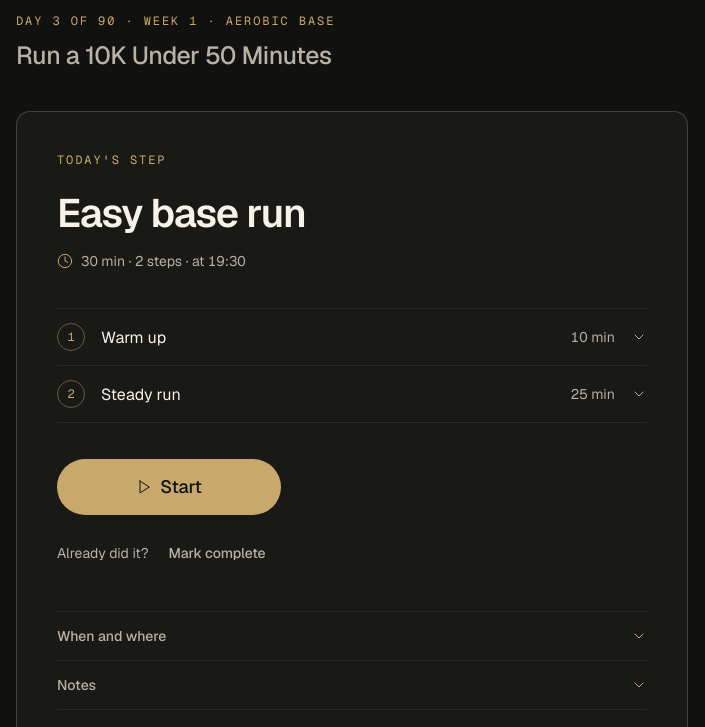
it: Today › renders raw implementation intention when not partitioned into when/where/action
This screenshot has width=705, height=727.
Step 1. Click the button "When and where" → (112, 636), box [57,612,647,660]
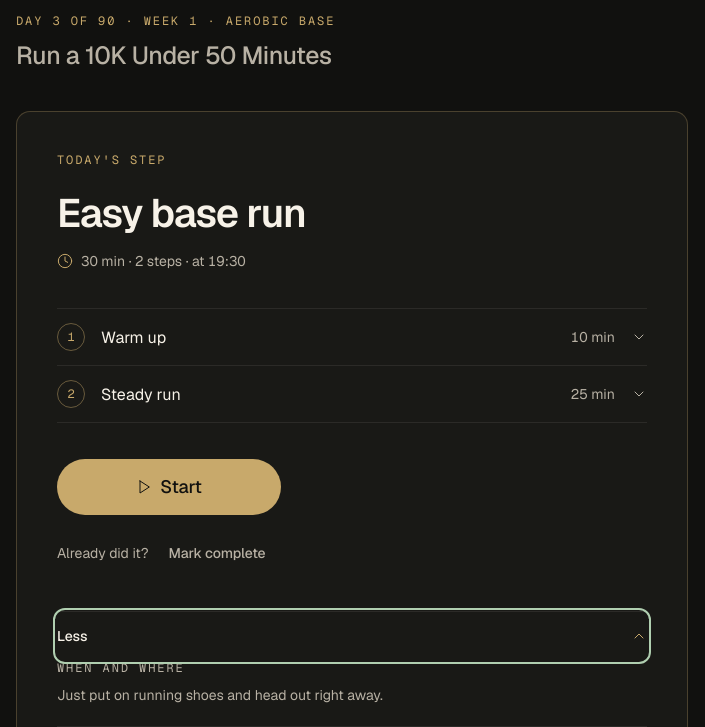
Check: the text "Just put on running shoes and head out right away." is shown, box [57,686,383,704]
